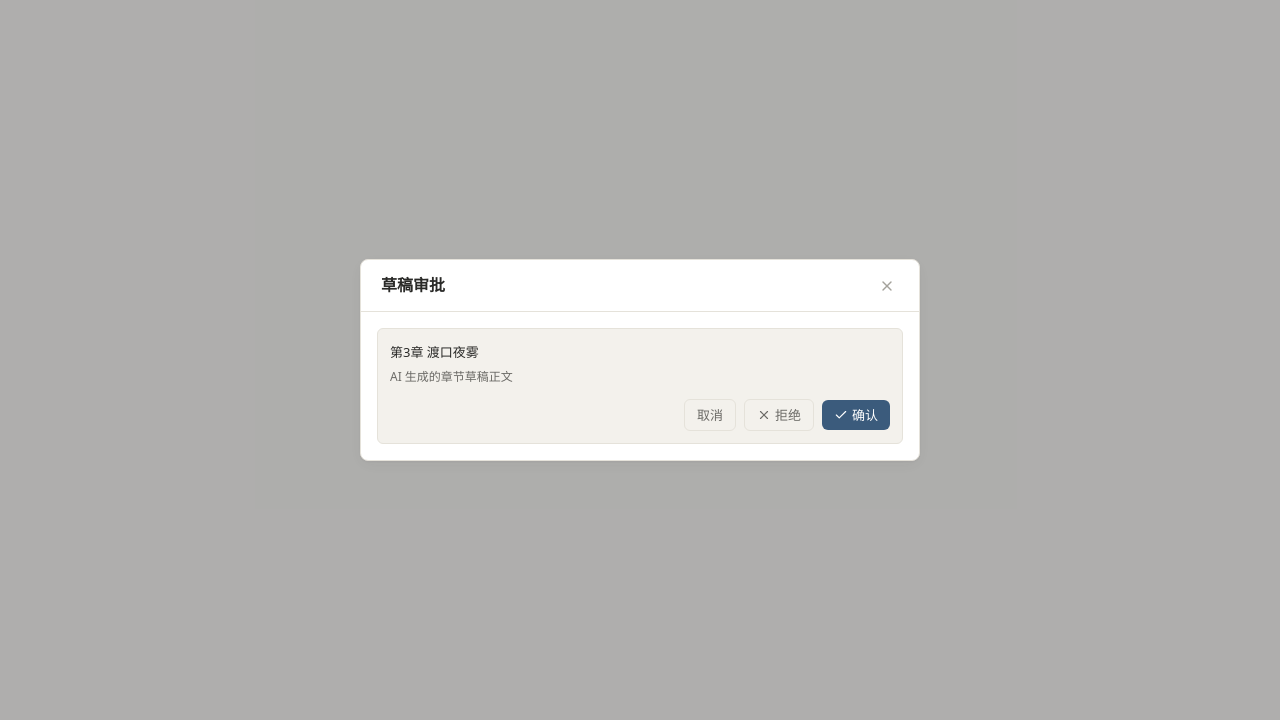
Scenario: DraftApprovalDrawer — 确认闭环 › 确认失败 → drafts-drawer-error 展示
Click the button with test id "drafts-drawer-confirm-d1" at (856, 415), box [822, 400, 890, 430]
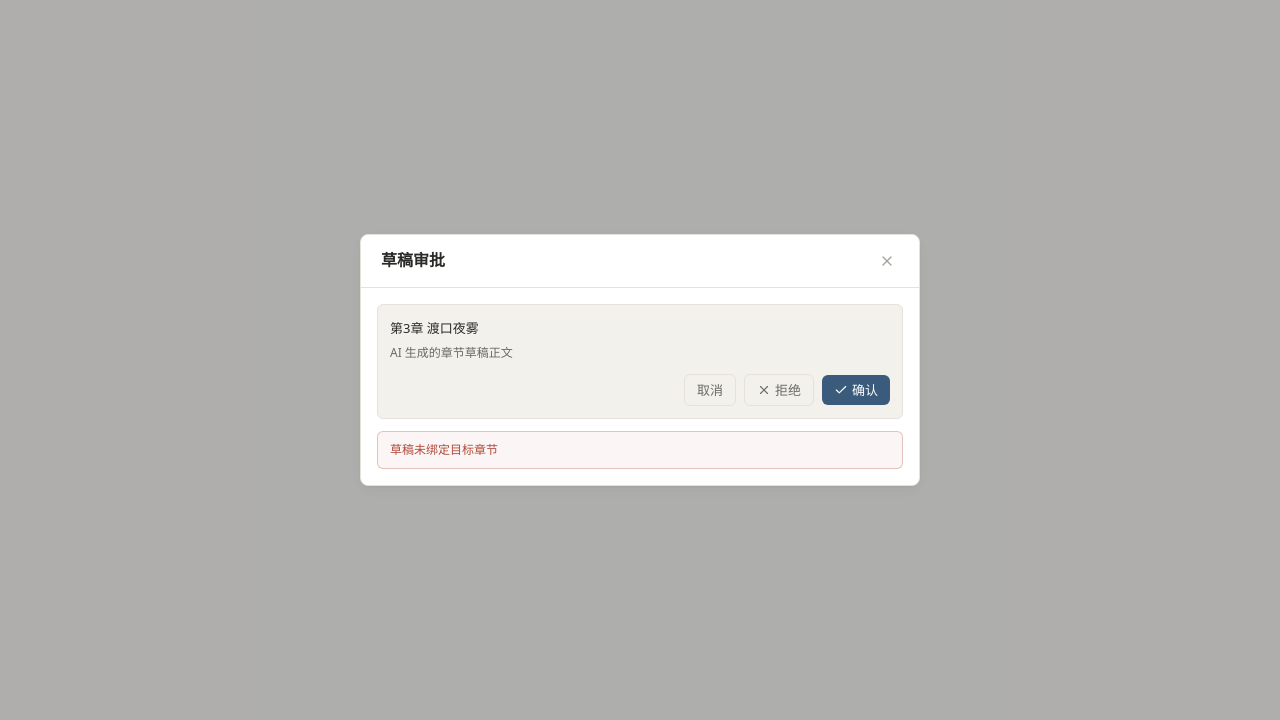
Check: the text with test id "drafts-drawer-error" reads "草稿未绑定目标章节", box [390, 441, 498, 458]
